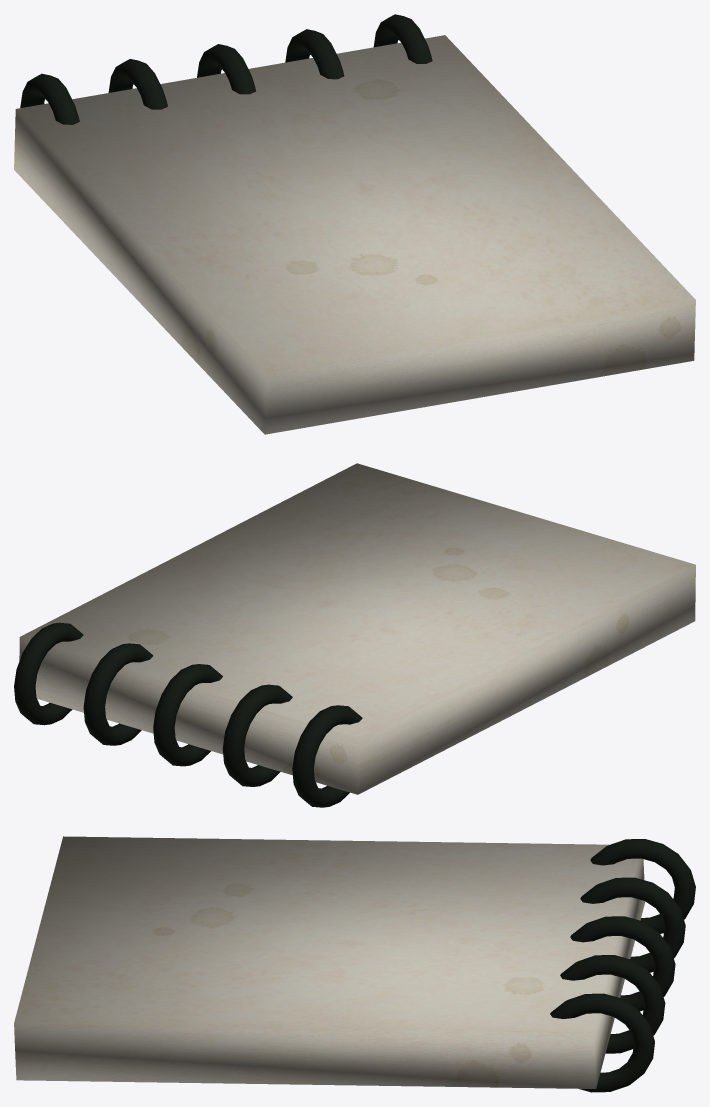
File: notebook.glb
3 views of the same model, one above another, from view 1: azimuth 30°, elevation 25°; view 2: azimuth 150°, elevation 25°; view 3: azimuth 270°, elevation 25° (orthographic). The views are drawn at different scales.
Parts seen in each view (by area): view 1: NotebookMesh; view 2: NotebookMesh; view 3: NotebookMesh.
Boxes of the visible parts, box(x1,y1,x2,y2) form: NotebookMesh: box(14, 14, 695, 434); NotebookMesh: box(14, 463, 695, 807); NotebookMesh: box(14, 836, 695, 1092).
Bounding box in the file's own units: 0.1706 × 0.039 × 0.2336.
Materials: 2 (2 with a texture image).
